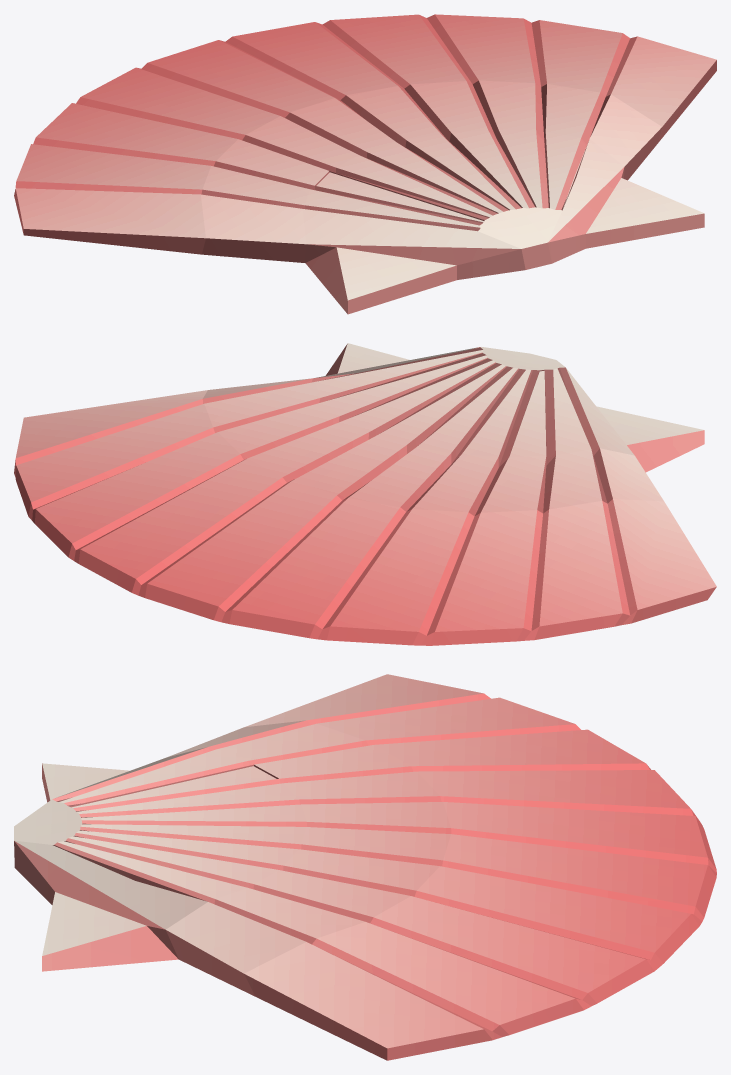
Rendered from fbx-sea-shell.fbx.
3 renders of one model, top to bottom at view 1: azimuth 30°, elevation 25°; view 2: azimuth 150°, elevation 25°; view 3: azimuth 270°, elevation 25°, orthographic. The views are drawn at different scales.
Parts seen in each view (by area): view 1: fbx-sea-shell; view 2: fbx-sea-shell; view 3: fbx-sea-shell.
Boxes of the visible parts, x1,y1,x2,y2 form: fbx-sea-shell: [14, 14, 716, 314]; fbx-sea-shell: [14, 343, 716, 645]; fbx-sea-shell: [14, 674, 716, 1060].
Bounding box in the file's own units: 75.13 × 4.89 × 59.63.
